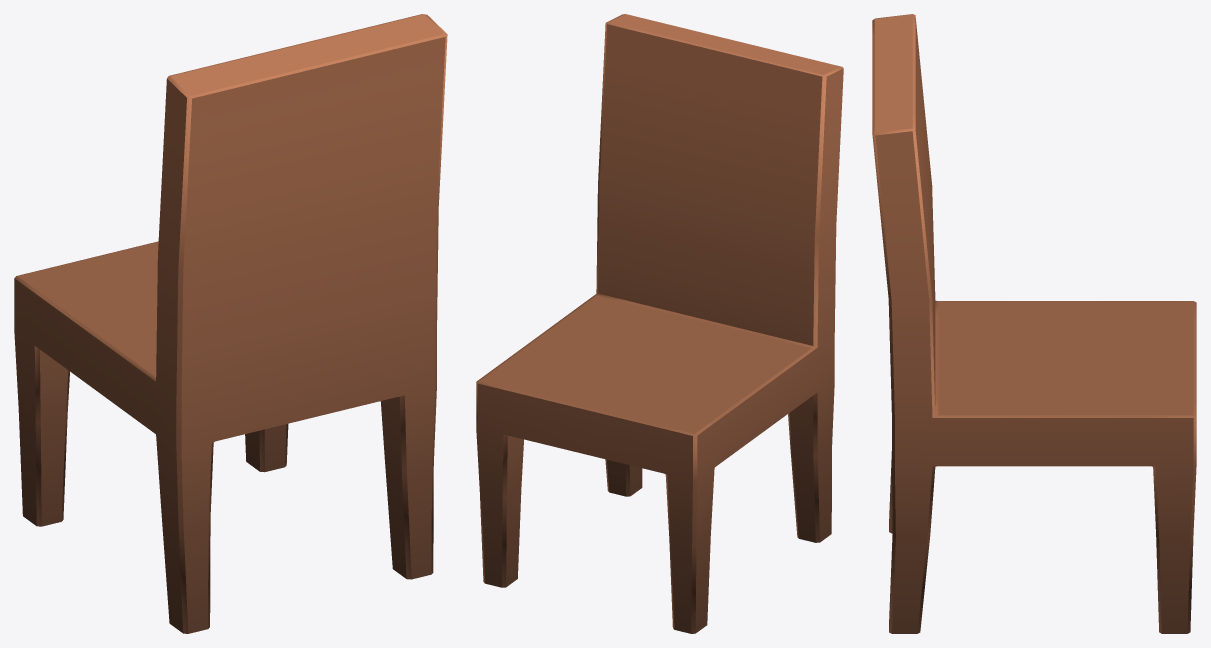
The model's file is Chair.fbx.
3 views of the same model, side by side, from view 1: azimuth 30°, elevation 25°; view 2: azimuth 150°, elevation 25°; view 3: azimuth 270°, elevation 25° (orthographic). The views are drawn at different scales.
Visible parts, largest first — view 1: Chair.005; view 2: Chair.005; view 3: Chair.005.
Part boxes in pixels (box(x1,y1,x2,y2)): Chair.005: box(14, 14, 447, 633); Chair.005: box(476, 14, 843, 633); Chair.005: box(872, 14, 1196, 633).
Size of the model in its own units: 59.25 by 120 by 69.29.
Materials: 1 (1 with a texture image).
